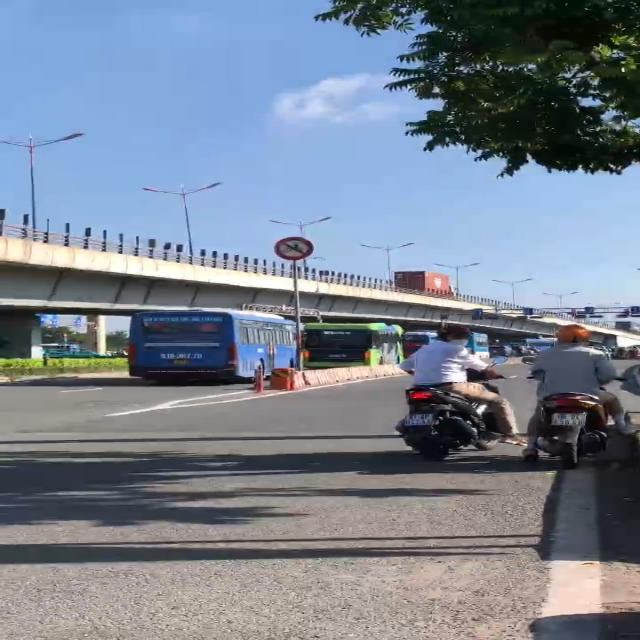Bien bao cam xe may: (269, 231, 317, 263)
